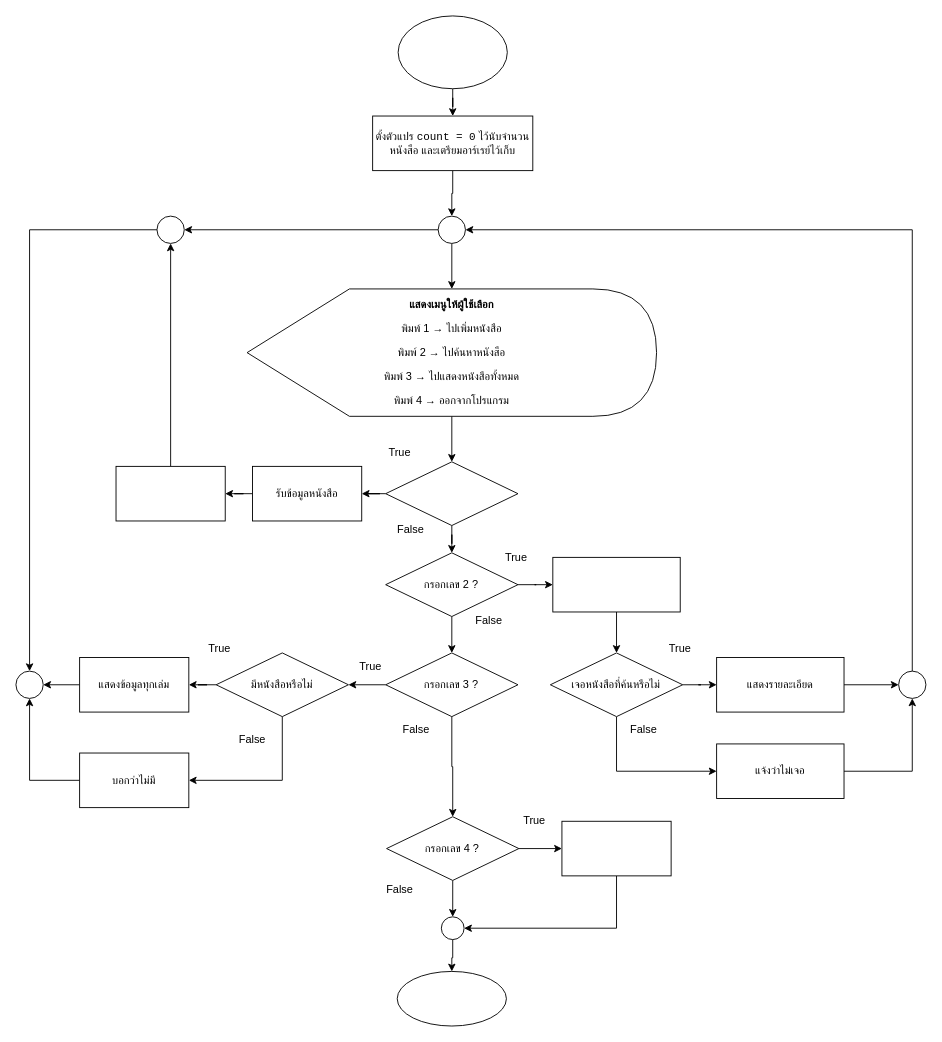
The diagram is 942 pixels wide and 1042 high, and some of its shapes have lost their labels. The shapes that lost their labels are listed below. From the top down, each one's centre as x and y in pixels, then its label:
At pixel 452 52: "เริ่มต้น".
At pixel 170 493: "เก็บไว้ในระบบ".
At pixel 451 493: "กรอกเลข 1 ?".
At pixel 616 584: "รับชื่อหนังสือที่อยากค้นหา → วนหาทีละเล่ม".
At pixel 616 848: "exit".
At pixel 451 998: "จบการทำงาน".
